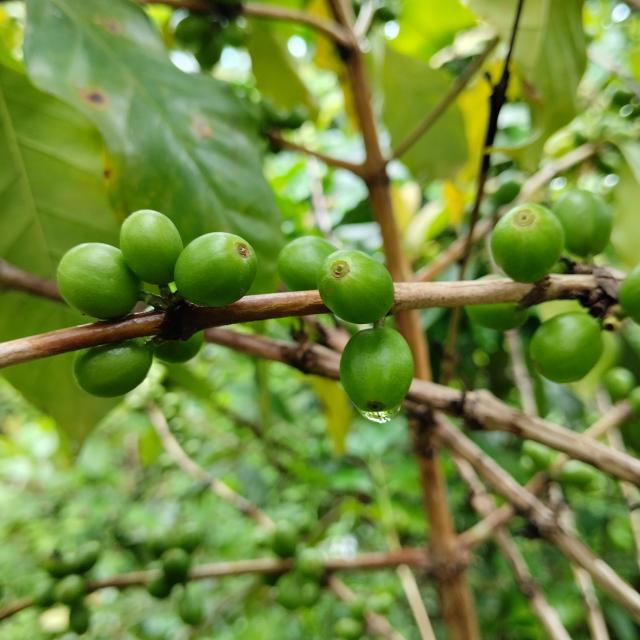green: (56, 242, 141, 319), (340, 328, 414, 413), (174, 232, 257, 307), (491, 203, 565, 283), (317, 250, 395, 324), (531, 312, 605, 384), (119, 209, 183, 285), (72, 339, 152, 398), (553, 189, 613, 257), (278, 235, 338, 291), (465, 303, 529, 331), (153, 331, 203, 364)
